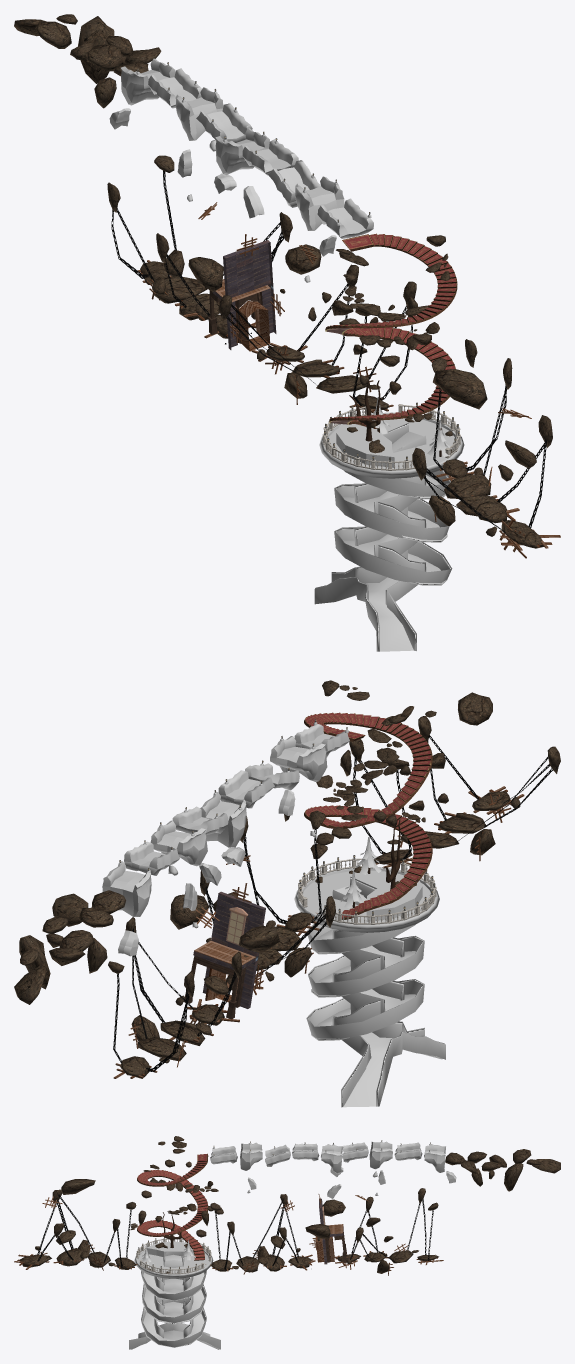
Rendered from Spooky_Tower_Stairs_01_Art.fbx.
3 views of the same model, one above another, from view 1: azimuth 30°, elevation 25°; view 2: azimuth 150°, elevation 25°; view 3: azimuth 270°, elevation 25° (orthographic). The views are drawn at different scales.
Parts seen in each view (by area): view 1: Spooky_Tower_Stairs_01_Art; view 2: Spooky_Tower_Stairs_01_Art; view 3: Spooky_Tower_Stairs_01_Art.
Part boxes in pixels (box(x1,y1,x2,y2)): Spooky_Tower_Stairs_01_Art: box(14, 14, 560, 651); Spooky_Tower_Stairs_01_Art: box(14, 680, 560, 1107); Spooky_Tower_Stairs_01_Art: box(14, 1136, 560, 1349).
Size of the model in its own units: 1503 by 3468 by 8199.
